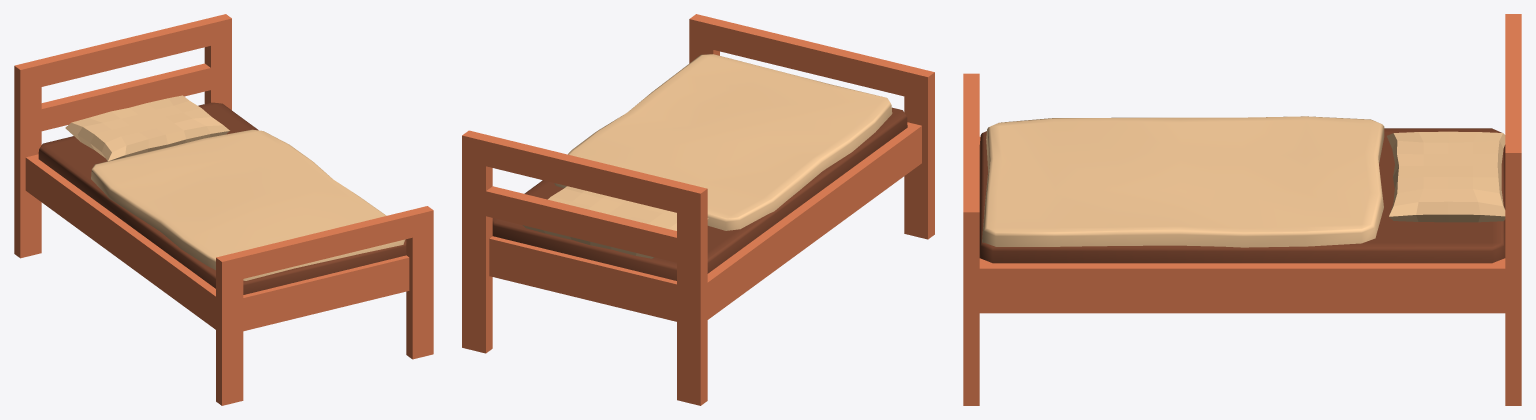
Rendered from Bed.fbx.
3 renders of one model, left to right at view 1: azimuth 30°, elevation 25°; view 2: azimuth 150°, elevation 25°; view 3: azimuth 270°, elevation 25°, orthographic. The views are drawn at different scales.
Parts seen in each view (by area): view 1: Bed_LOD0; view 2: Bed_LOD0; view 3: Bed_LOD0.
Boxes of the visible parts, x1,y1,x2,y2 form: Bed_LOD0: (14, 14, 433, 405); Bed_LOD0: (462, 14, 934, 405); Bed_LOD0: (963, 14, 1521, 405).
Size of what is drawn, in the model's own units: 1 by 0.85 by 1.7.
